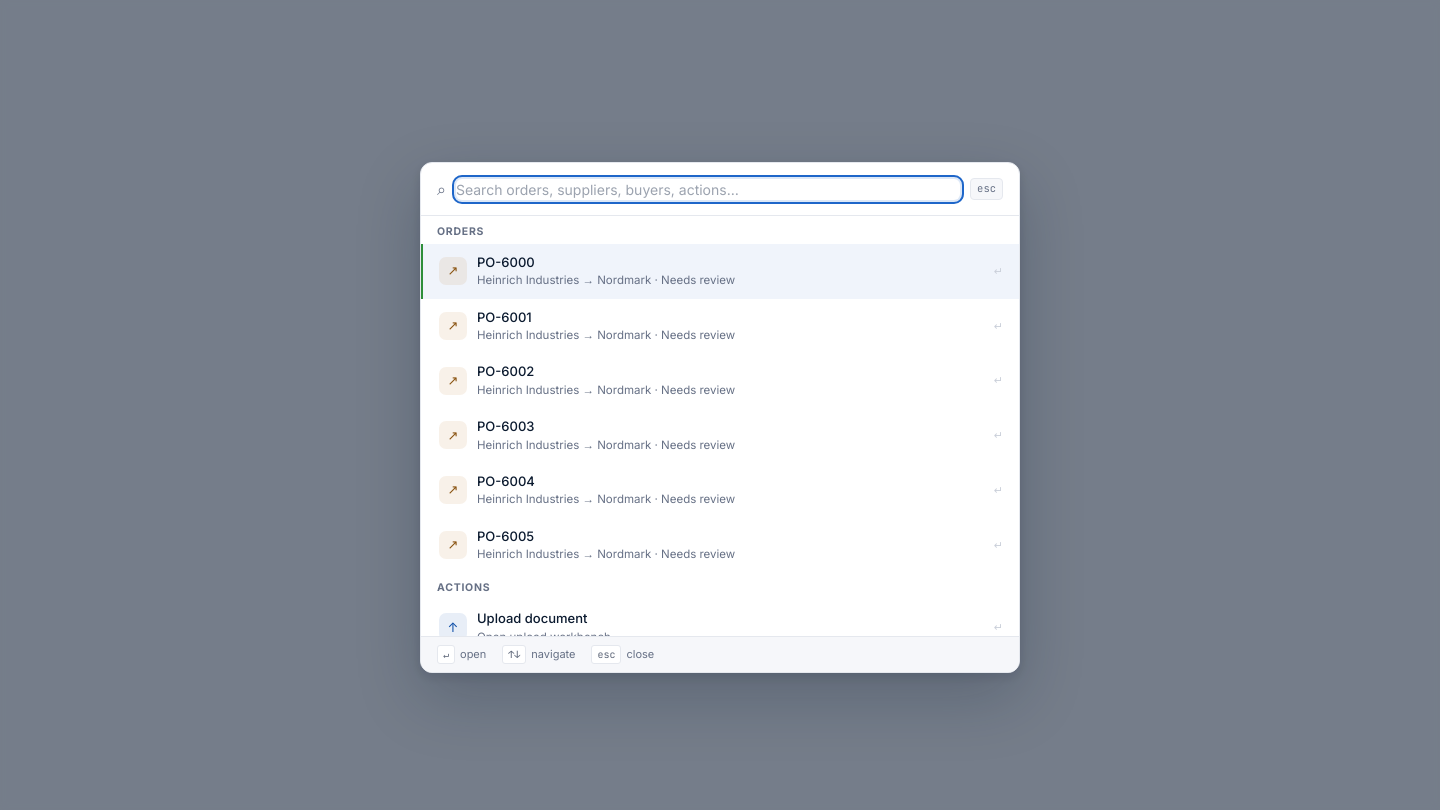
Test: command palette search — a one-character query reaches every order › finds an order outside the six most recent from ONE character
Type "z" into the dropdown at (708, 189), box [456,178,960,200]
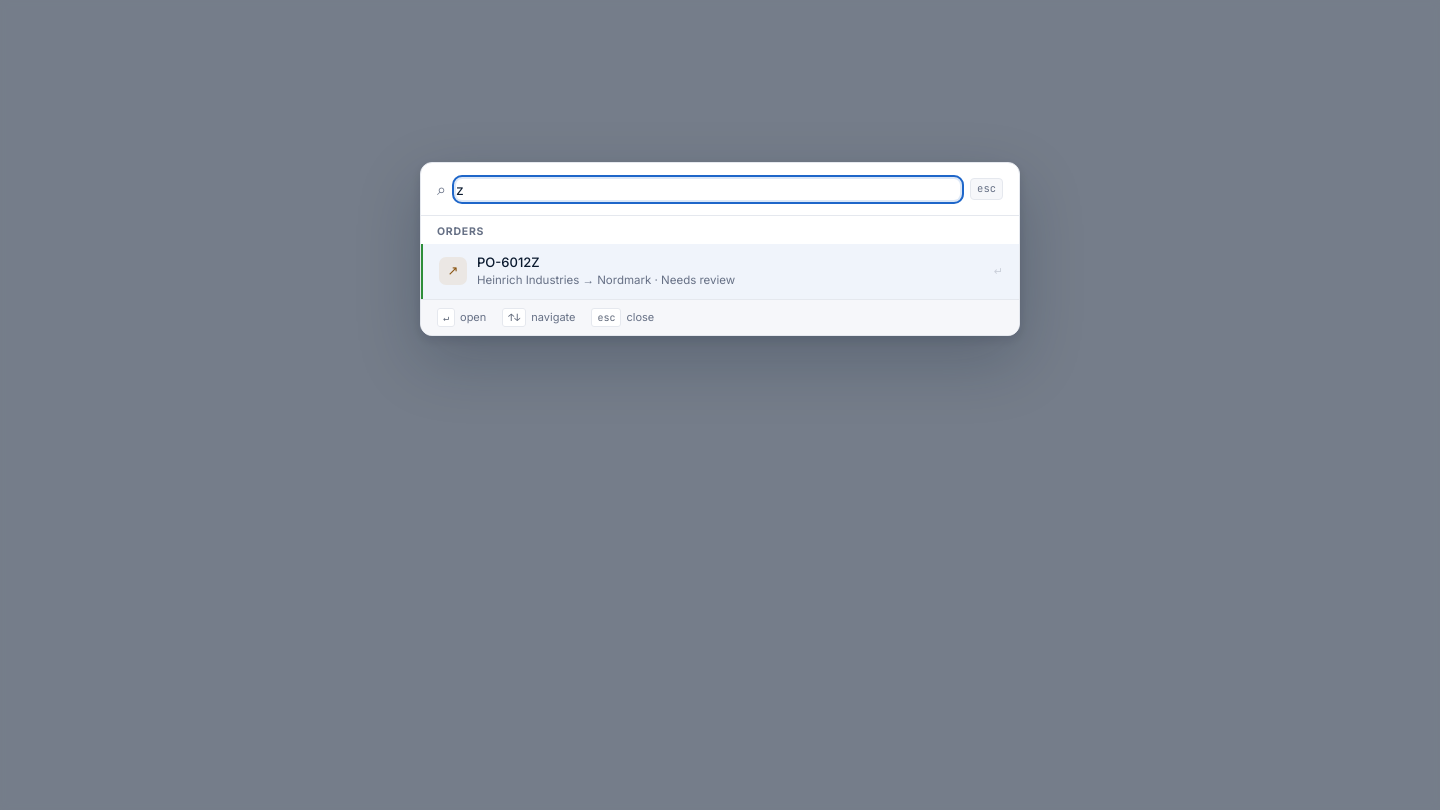
Result: the text "PO-6012Z" is shown at [477,254,540,270]
